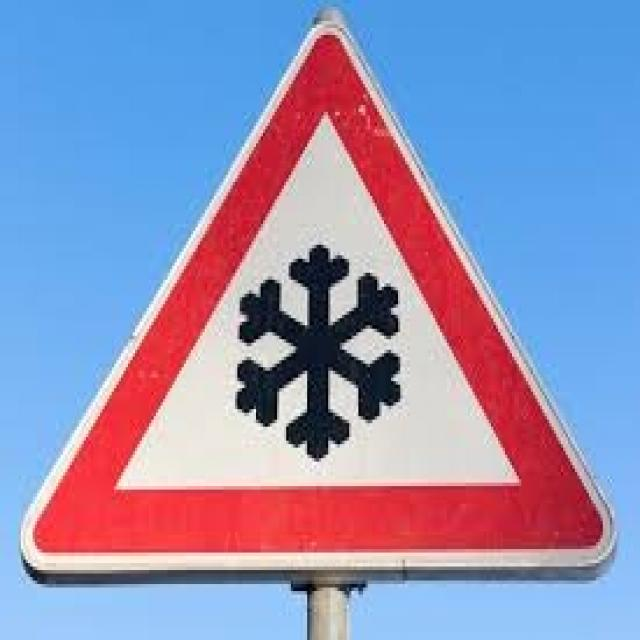snow_warning: (19, 9, 622, 595)
